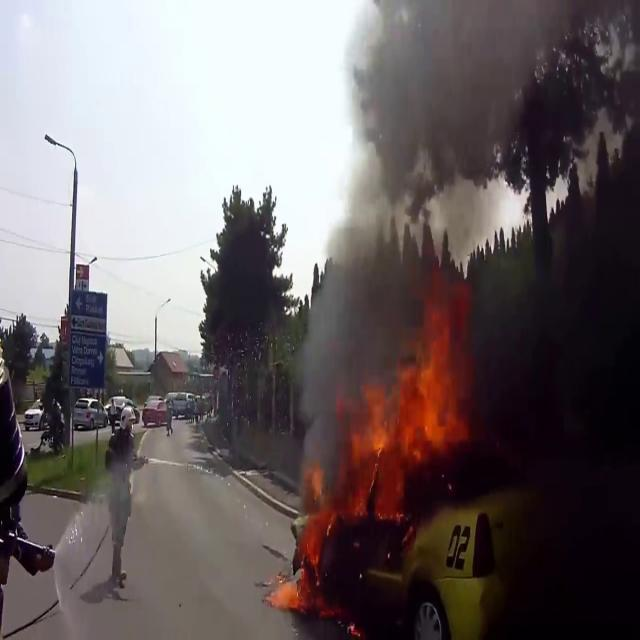Fire: (346, 316, 469, 522)
Smoke: (352, 0, 564, 198), (288, 217, 420, 458)
